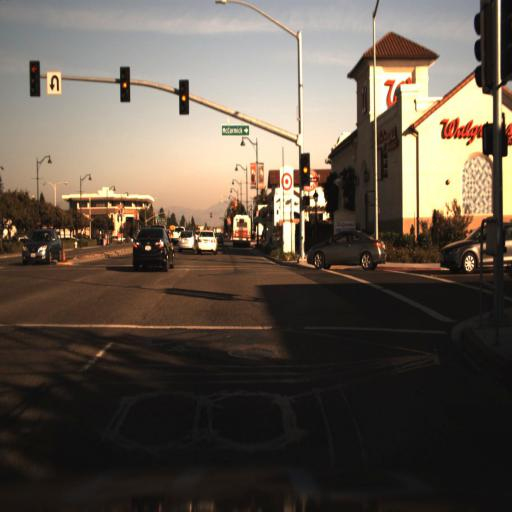car: (430, 221, 512, 270), (304, 231, 384, 270), (128, 222, 174, 277), (20, 227, 63, 264), (197, 229, 221, 256), (178, 228, 197, 252)
trafficLight-Yellow: (176, 72, 190, 124), (300, 150, 311, 194), (117, 62, 128, 104), (299, 153, 310, 185)
truck: (232, 210, 254, 249), (232, 211, 252, 251)
